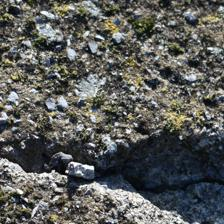Crack: (7, 68, 217, 143)
